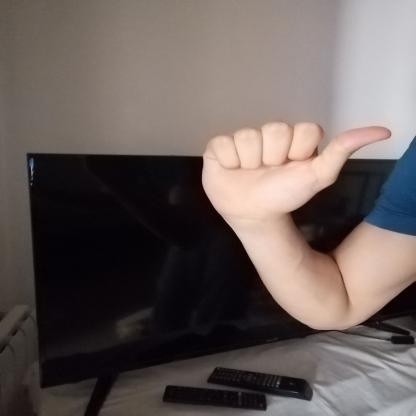DAD: (187, 112, 403, 234)
